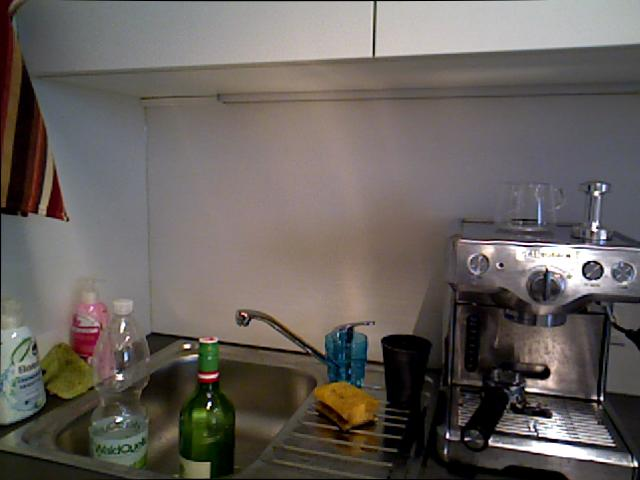bench: (82, 293, 157, 473), (177, 336, 235, 479), (0, 293, 46, 426), (62, 274, 119, 381)
couch: (2, 340, 324, 479)
handbag: (489, 176, 568, 237), (380, 333, 432, 410), (324, 329, 368, 388)
